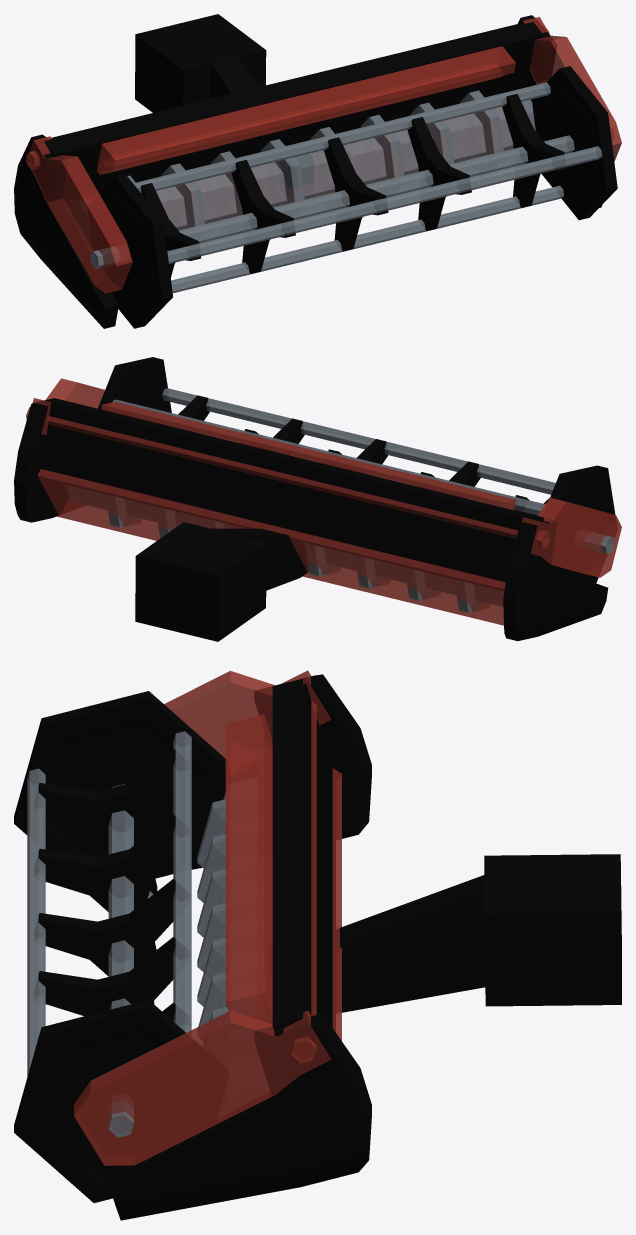
File: combineRoller.fbx
The picture shows the model from 3 angles, top to bottom: view 1: azimuth 30°, elevation 25°; view 2: azimuth 150°, elevation 25°; view 3: azimuth 270°, elevation 25°; orthographic projection. The views are drawn at different scales.
Parts seen in each view (by area): view 1: rollerHolder, rollerFront, rollerBack; view 2: rollerHolder, rollerFront, rollerBack; view 3: rollerHolder, rollerFront, rollerBack.
Boxes of the visible parts, x1=… form: rollerHolder: x1=14, y1=14, x2=621, y2=328; rollerFront: x1=90, y1=66, x2=617, y2=328; rollerBack: x1=127, y1=90, x2=535, y2=230; rollerHolder: x1=14, y1=378, x2=621, y2=641; rollerFront: x1=98, y1=357, x2=615, y2=583; rollerBack: x1=68, y1=485, x2=503, y2=612; rollerHolder: x1=74, y1=670, x2=621, y2=1220; rollerFront: x1=14, y1=691, x2=225, y2=1202; rollerBack: x1=197, y1=792, x2=228, y2=1026.
Size of the model in its own units: 507 by 133 by 364.
